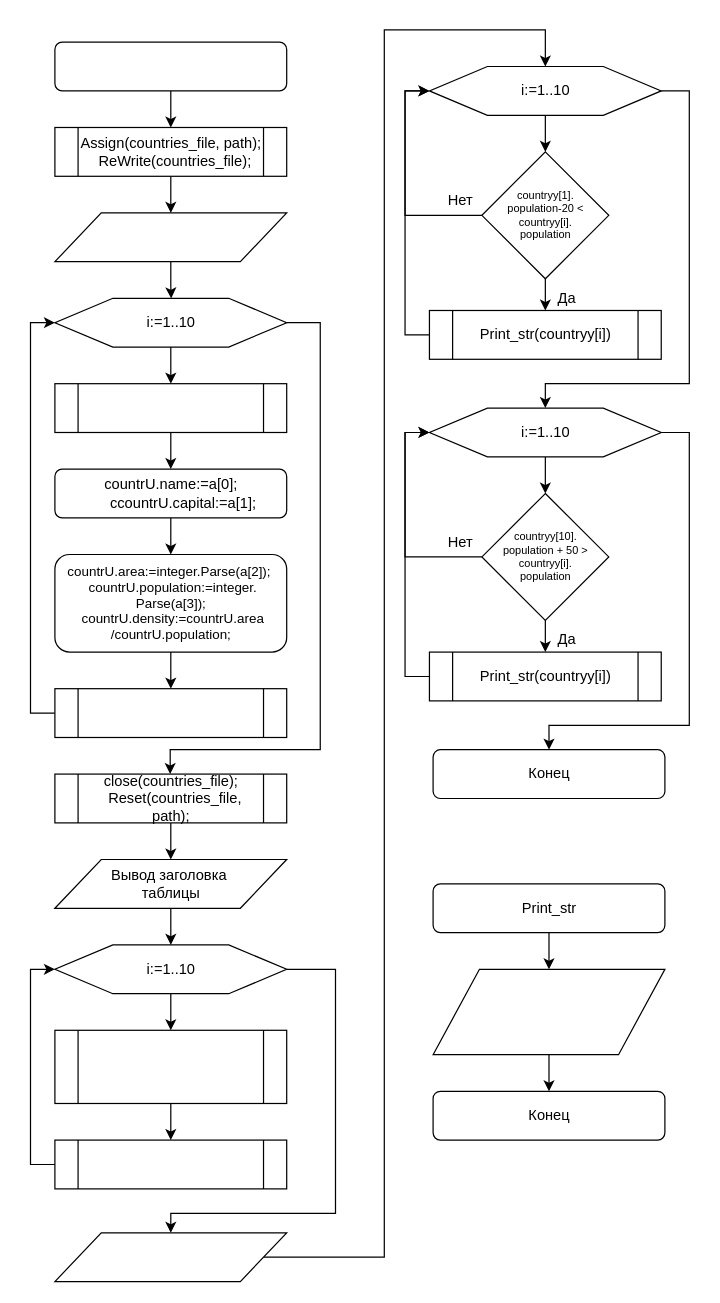
Some shapes in this 720 by 1303 pixel diagram are drawn without their labels. Each missing label, with the centre of its shape:
Print_str(countrU);: point (170, 1164)
Readln(countries,b); a:=b.Split(',');: point (170, 407)
Seek(countries_file,i-1); Read(countries_file, countrU); countryy[i]:=countrU;: point (170, 1066)
write(countries_file, countrU);: point (170, 712)
Введите данные через запятые и с новой строчки:: point (170, 237)
Вывод "С наибольшей": point (170, 1257)
Вывод отформатирова- нной строки из элементов массива: point (548, 1011)
Начало: point (170, 66)
